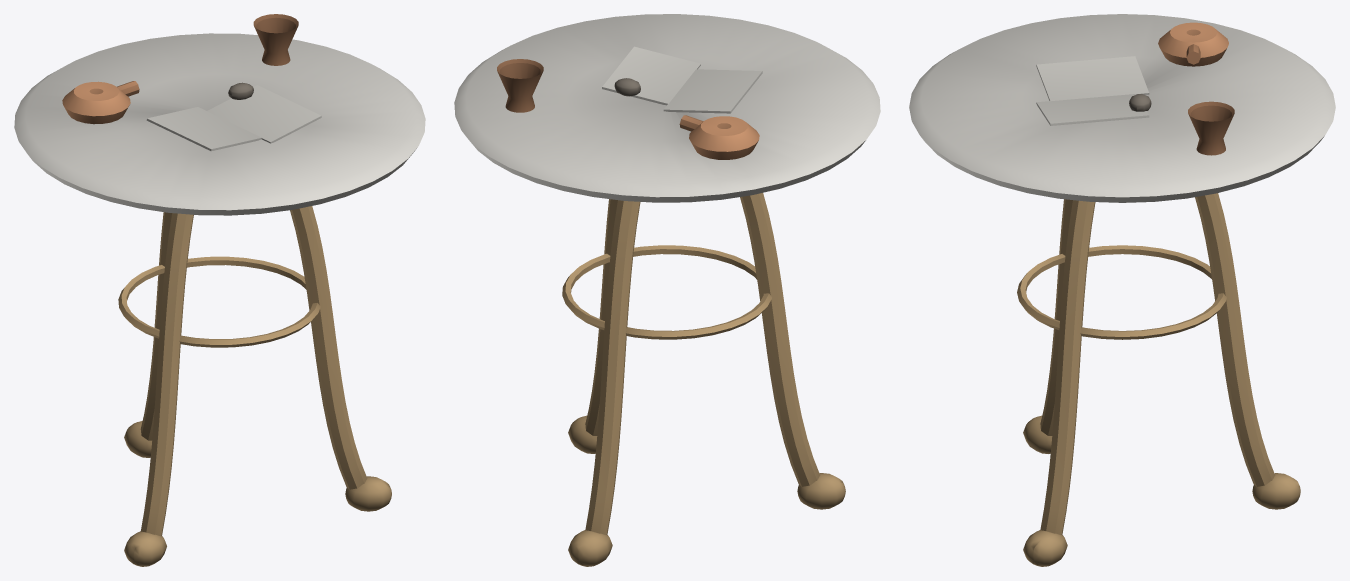
The model's file is obj_kit_notetable.glb.
The picture shows the model from 3 angles, left to right: view 1: azimuth 30°, elevation 25°; view 2: azimuth 150°, elevation 25°; view 3: azimuth 270°, elevation 25°; orthographic projection. The views are drawn at different scales.
Parts seen in each view (by area): view 1: top, leg.001, leg.002, Torus, Cube, Cube.001, lamp, cup, leg, Sphere.002, Sphere.001, Sphere; view 2: top, leg, leg.001, Torus, Cube, Cube.001, lamp, cup, leg.002, Sphere.001, Sphere, Sphere.002; view 3: top, leg.002, leg, Cube.001, Torus, Cube, lamp, cup, leg.001, Sphere, Sphere.002, Sphere.001.
Part boxes in pixels (left/top/right/bottom): top: left=14, top=33, right=425, bottom=215; leg.001: left=140, top=213, right=193, bottom=536; leg.002: left=290, top=206, right=367, bottom=489; Torus: left=118, top=256, right=320, bottom=347; Cube: left=207, top=85, right=321, bottom=143; Cube.001: left=146, top=107, right=261, bottom=151; lamp: left=62, top=81, right=130, bottom=124; cup: left=253, top=14, right=298, bottom=65; leg: left=140, top=212, right=171, bottom=440; Sphere.002: left=345, top=476, right=391, bottom=511; Sphere.001: left=124, top=531, right=166, bottom=566; Sphere: left=124, top=421, right=151, bottom=457; top: left=454, top=14, right=880, bottom=202; leg: left=585, top=200, right=640, bottom=534; leg.001: left=740, top=193, right=820, bottom=486; Torus: left=562, top=245, right=771, bottom=339; Cube: left=602, top=46, right=700, bottom=105; Cube.001: left=663, top=69, right=762, bottom=113; lamp: left=689, top=116, right=759, bottom=159; cup: left=497, top=59, right=543, bottom=112; leg.002: left=585, top=199, right=617, bottom=435; Sphere.001: left=797, top=473, right=845, bottom=509; Sphere: left=568, top=530, right=612, bottom=566; Sphere.002: left=568, top=415, right=597, bottom=453; top: left=909, top=14, right=1335, bottom=202; leg.002: left=1040, top=200, right=1095, bottom=534; leg: left=1195, top=193, right=1275, bottom=486; Cube.001: left=1036, top=56, right=1149, bottom=101; Torus: left=1017, top=245, right=1226, bottom=339; Cube: left=1036, top=94, right=1149, bottom=125; lamp: left=1158, top=22, right=1228, bottom=66; cup: left=1188, top=101, right=1234, bottom=155; leg.001: left=1040, top=199, right=1072, bottom=435; Sphere: left=1252, top=473, right=1300, bottom=509; Sphere.002: left=1023, top=530, right=1067, bottom=566; Sphere.001: left=1023, top=415, right=1052, bottom=453.
Size of the model in its own units: 0.72 by 0.83 by 0.72.
